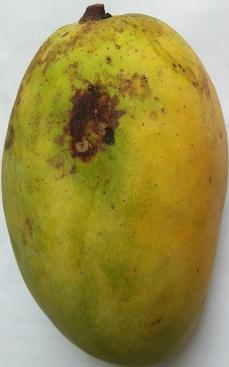PartiallyRipe: (0, 1, 229, 367)
